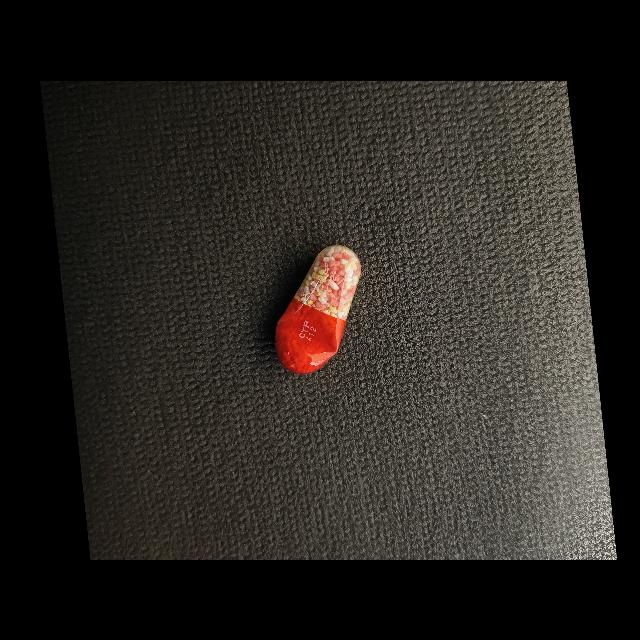Defective Capsule: (275, 245, 361, 373)
